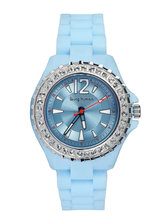watch: (28, 11, 143, 215)
